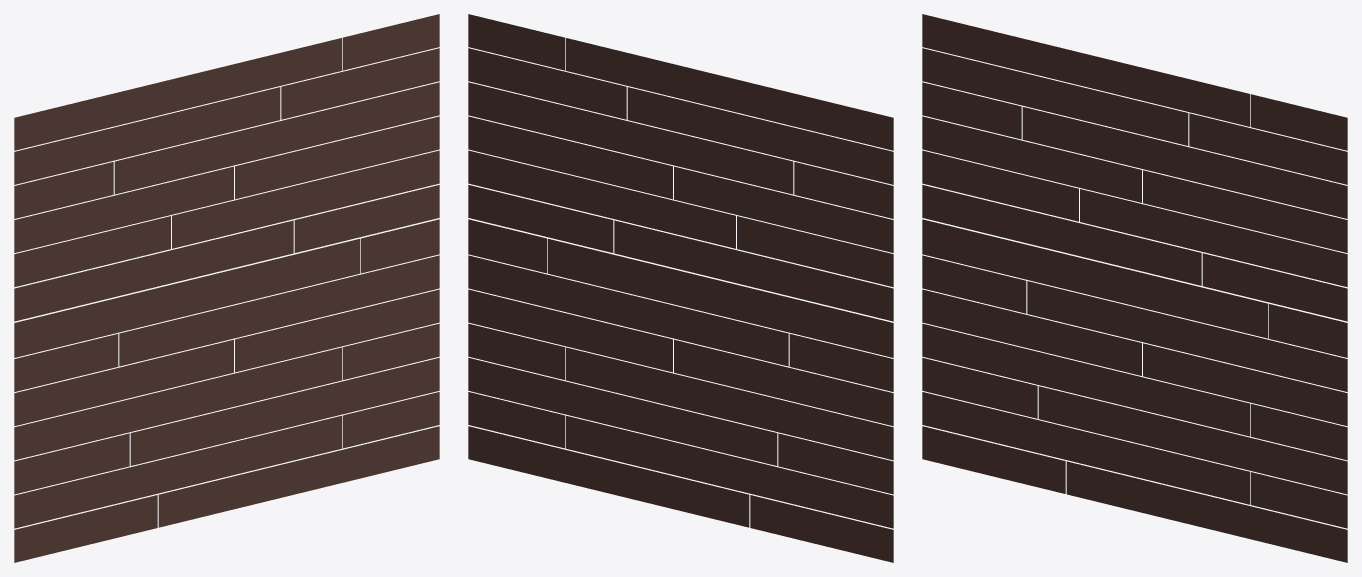
File: floor-tile.glb
3 views of the same model, side by side, from view 1: azimuth 30°, elevation 25°; view 2: azimuth 150°, elevation 25°; view 3: azimuth 330°, elevation 25° (orthographic).
Visible parts, largest first — view 1: floor_004; view 2: floor_004; view 3: floor_004.
Boxes of the visible parts, x1,y1,x2,y2 form: floor_004: [14, 14, 439, 562]; floor_004: [468, 14, 893, 562]; floor_004: [922, 14, 1347, 562].
Size of the model in its own units: 4 by 4 by 0.
1 material, 1 textured.
